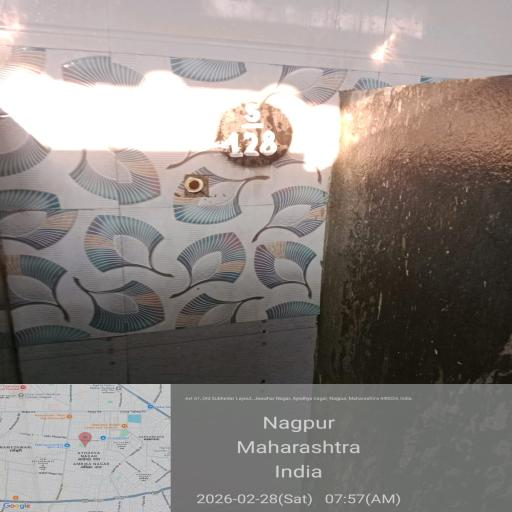clean_floor: (34, 38, 422, 508)
